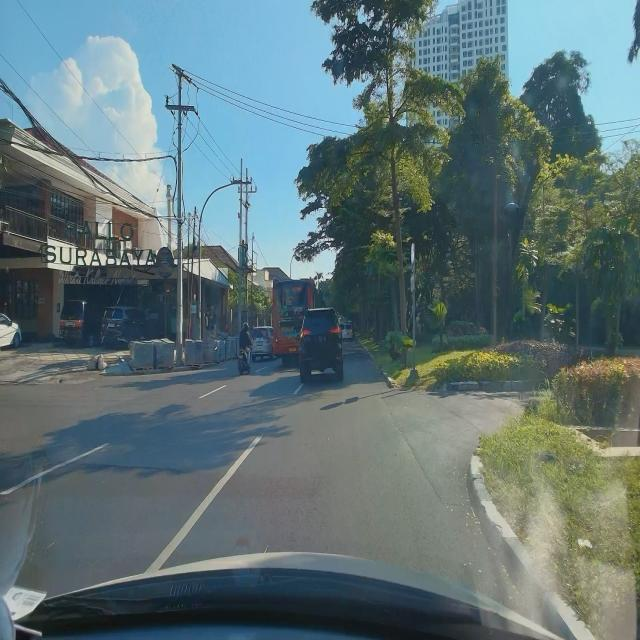bus: (273, 274, 323, 366)
car: (299, 305, 344, 385), (250, 323, 276, 361)
